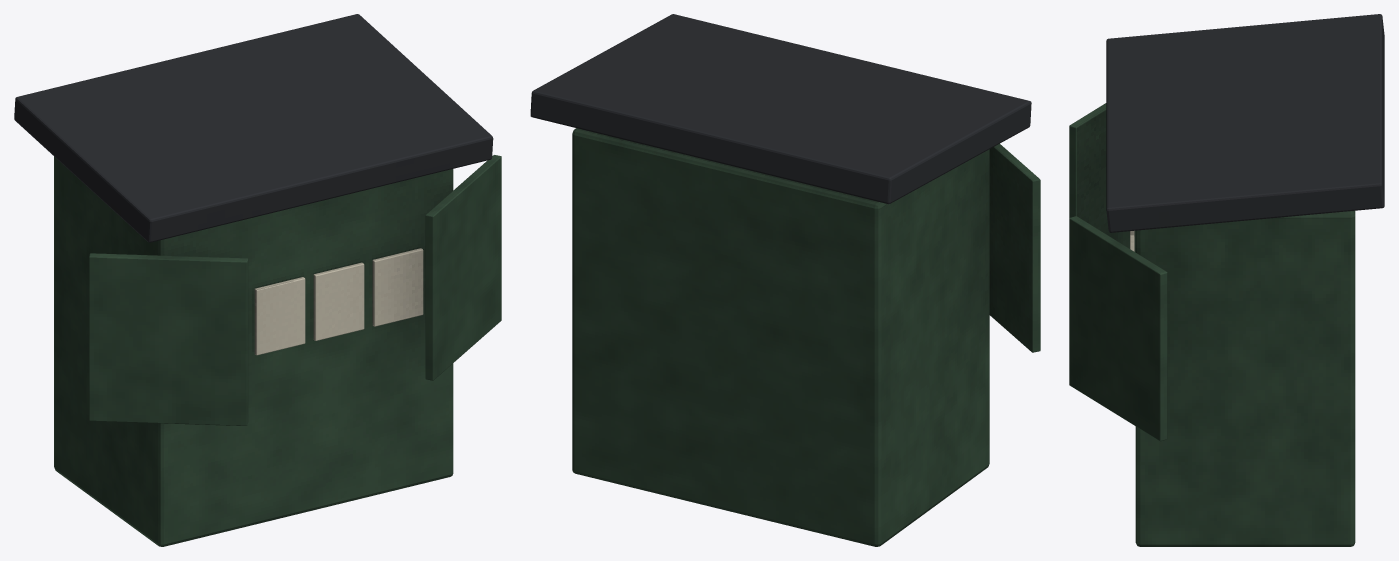
The model's file is arena_sira_kiosk.glb.
3 views of the same model, side by side, from view 1: azimuth 30°, elevation 25°; view 2: azimuth 150°, elevation 25°; view 3: azimuth 270°, elevation 25° (orthographic). The views are drawn at different scales.
Parts seen in each view (by area): view 1: arena_sira_kiosk; view 2: arena_sira_kiosk; view 3: arena_sira_kiosk.
Boxes of the visible parts, left/top/right/bottom form: arena_sira_kiosk: left=14, top=14, right=501, bottom=546; arena_sira_kiosk: left=530, top=14, right=1040, bottom=546; arena_sira_kiosk: left=1069, top=14, right=1384, bottom=546.
Bounding box in the file's own units: 2.1 × 1.8 × 1.36.
3 materials, 3 textured.
